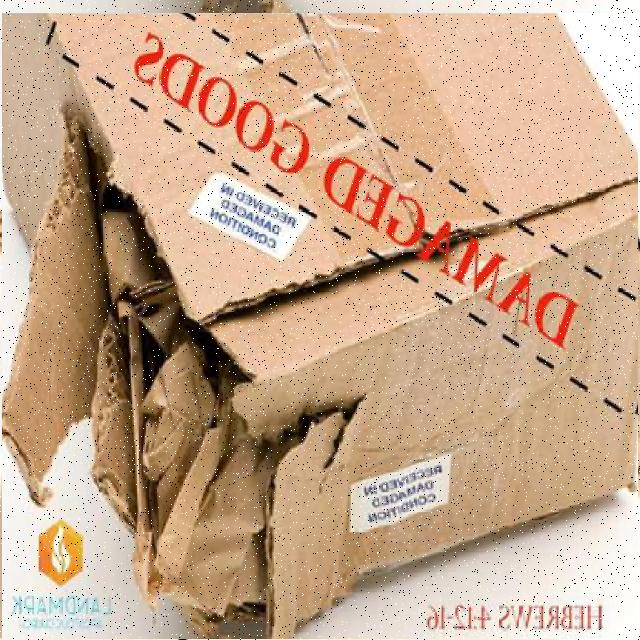defect: (2, 12, 638, 638)
